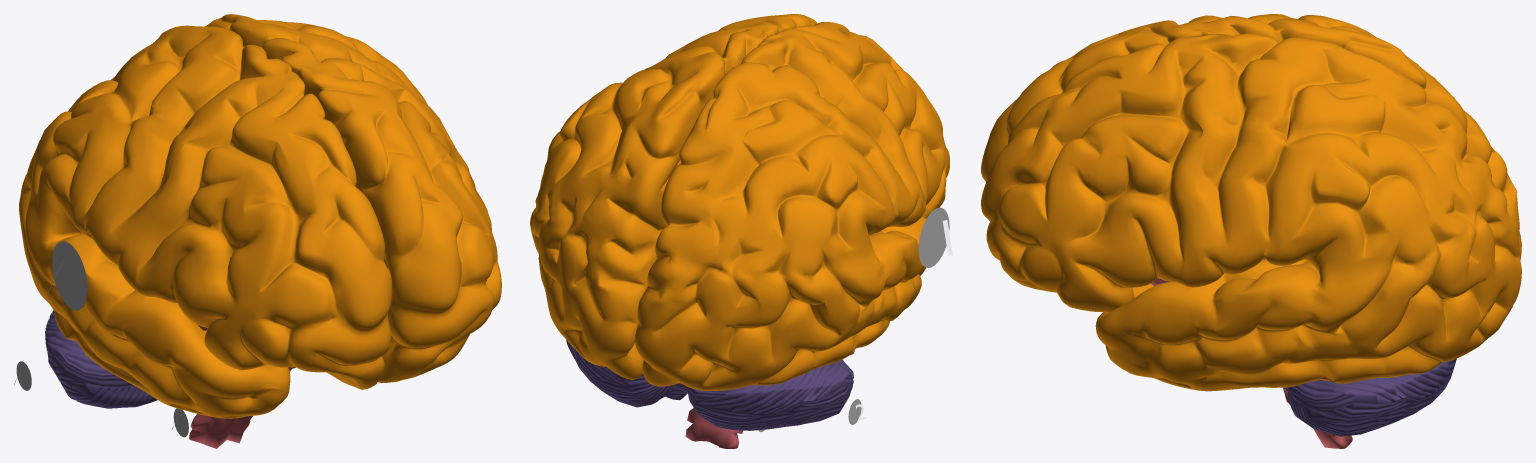
File: THREE-PARTS-BRAIN.glb
The picture shows the model from 3 angles, left to right: view 1: azimuth 30°, elevation 25°; view 2: azimuth 150°, elevation 25°; view 3: azimuth 270°, elevation 25°; orthographic projection. The views are drawn at different scales.
Parts seen in each view (by area): view 1: Brain_Part_06, Brain_Part_04, Brain_Part_02, Circle, Brain_Part_05; view 2: Brain_Part_06, Brain_Part_04, Brain_Part_02, Circle, Brain_Part_05; view 3: Brain_Part_04, Brain_Part_06, Brain_Part_02, Brain_Part_05.
Part boxes in pixels (box(x1,y1,x2,y2)): Brain_Part_06: box(19, 25, 391, 418); Brain_Part_04: box(205, 14, 501, 382); Brain_Part_02: box(45, 310, 295, 408); Circle: box(52, 241, 87, 310); Brain_Part_05: box(189, 324, 292, 448); Brain_Part_06: box(634, 22, 949, 390); Brain_Part_04: box(530, 14, 816, 379); Brain_Part_02: box(566, 339, 853, 430); Circle: box(918, 207, 949, 267); Brain_Part_05: box(685, 408, 742, 448); Brain_Part_04: box(981, 33, 1521, 391); Brain_Part_06: box(981, 14, 1521, 259); Brain_Part_02: box(1285, 358, 1456, 436); Brain_Part_05: box(1151, 257, 1352, 448).
Bounding box in the file's own units: 4.15 × 4.02 × 4.73.
